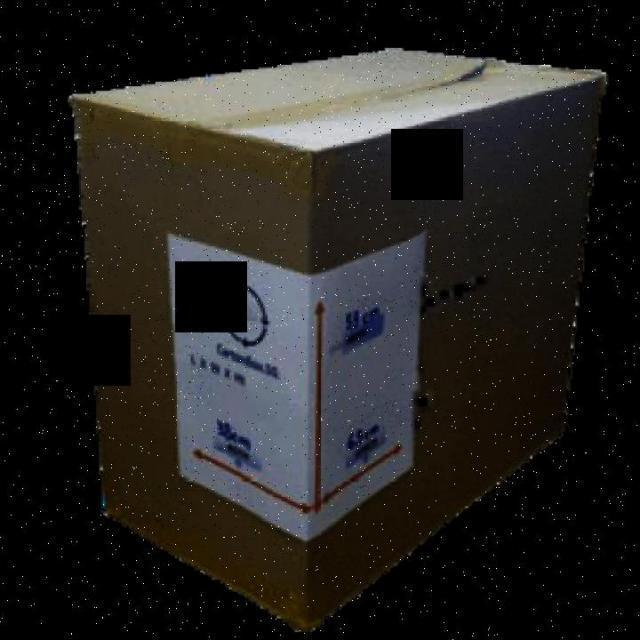box: (54, 48, 628, 636)
